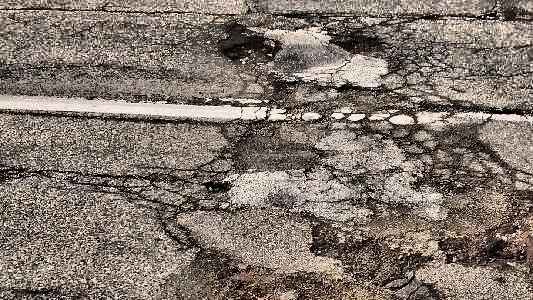pothole: (232, 115, 328, 177), (308, 236, 417, 286), (206, 249, 307, 300), (262, 75, 386, 116), (434, 222, 528, 267), (216, 26, 282, 66), (330, 32, 385, 57), (200, 178, 230, 194)
